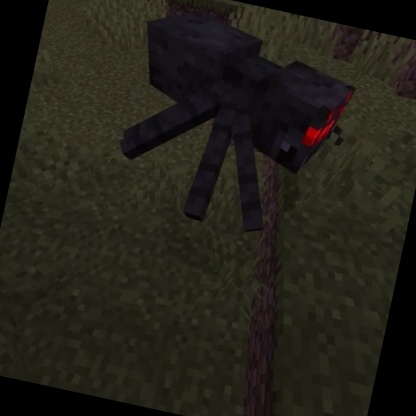spider: (99, 0, 369, 255)
